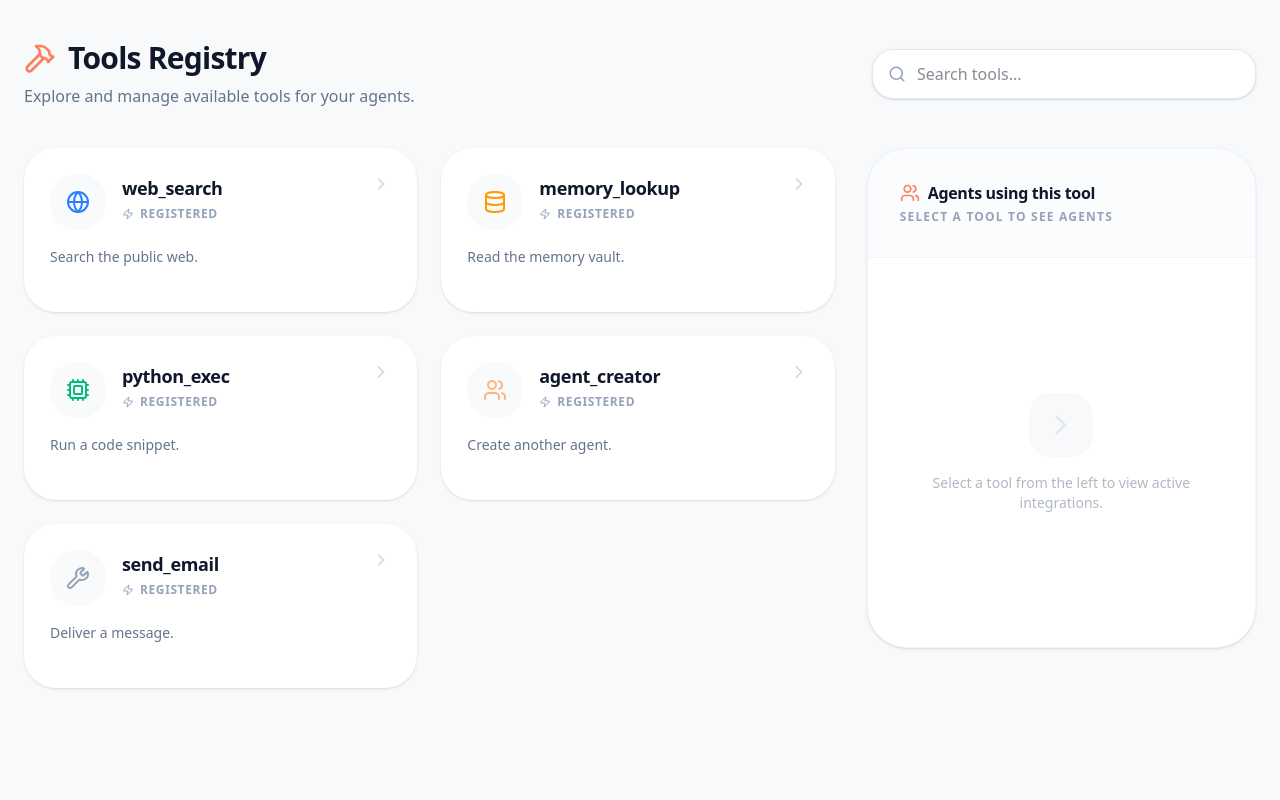
Test case: the tools page › selecting a tool › lists them
Click the heading "web_search".
click(172, 188)  # box [122,176,223,200]
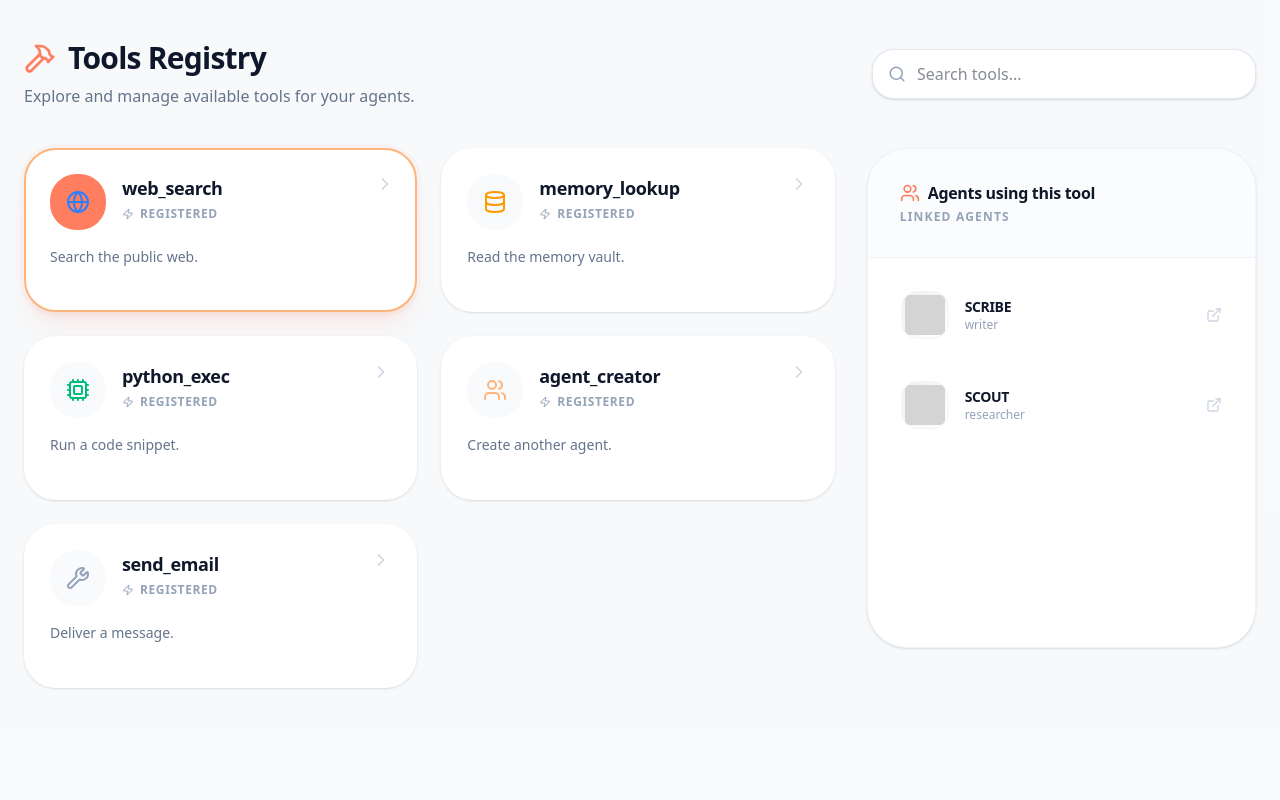
Check: the text "Scribe" is shown, box [965,297,1011,317]
